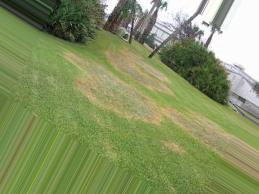patch: (87, 63, 159, 120), (196, 117, 214, 142), (241, 144, 256, 172), (217, 131, 233, 157)
